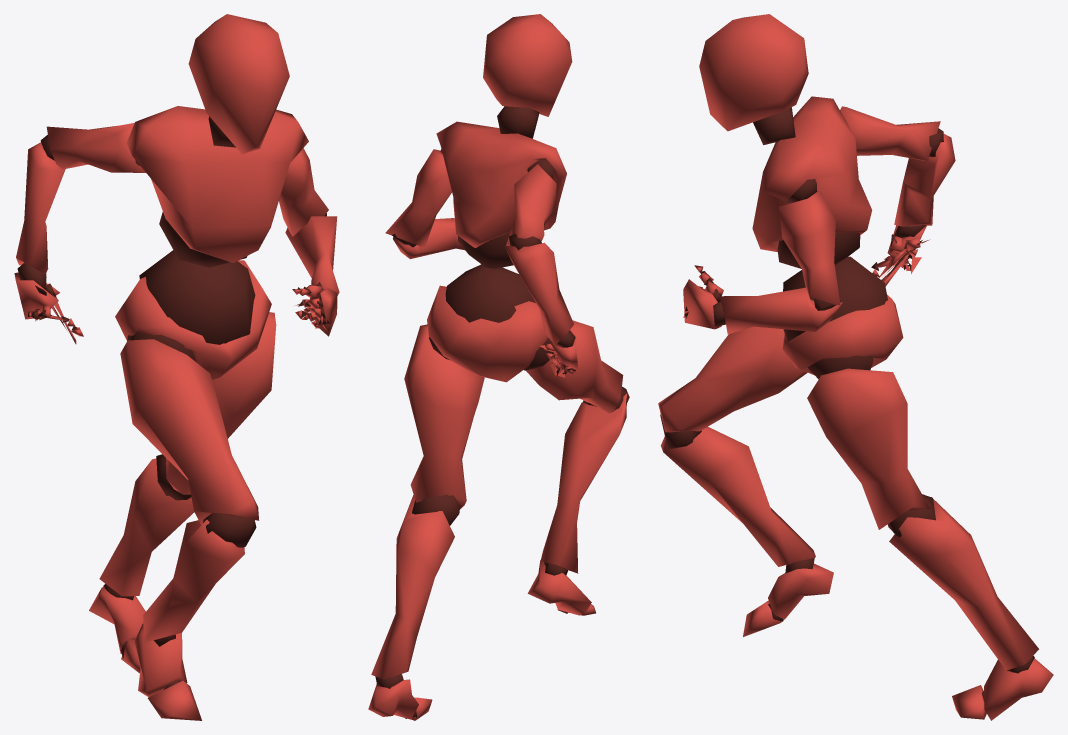
3 renders of one model, left to right at view 1: azimuth 30°, elevation 25°; view 2: azimuth 150°, elevation 25°; view 3: azimuth 270°, elevation 25°, orthographic. The views are drawn at different scales.
Visible parts, largest first — view 1: Beta_Surface.001; view 2: Beta_Surface.001; view 3: Beta_Surface.001.
Boxes of the visible parts, x1,y1,x2,y2 form: Beta_Surface.001: (14,14,339,720); Beta_Surface.001: (368,14,629,720); Beta_Surface.001: (658,14,1053,720).
Size of the model in its own units: 5.59 by 14.84 by 7.73.
